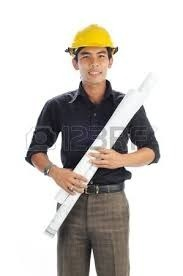helmet: (70, 21, 119, 58)
person with partial safety: (36, 22, 150, 274)
